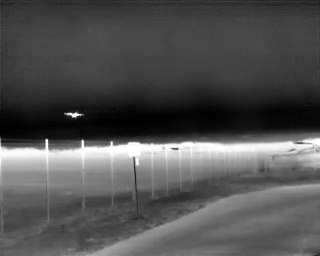AIRPLANE: (63, 109, 86, 121)
